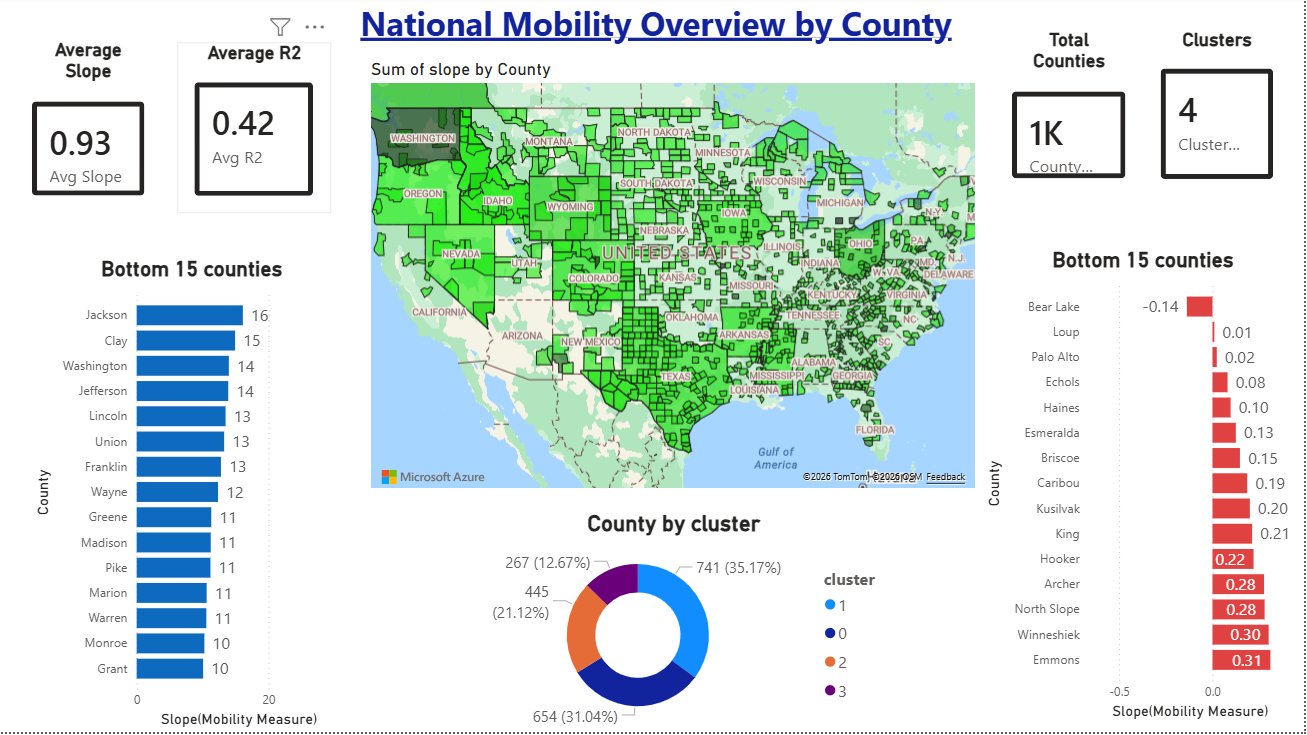

The page's visual inventory and layout, read from the dashboard file:
{"tool":"powerbi","page":{"name":"National mobility by county","canvas":[1280,720],"ordinal":0},"visuals":[{"type":"textbox","box":[314.2,0,662.8,61.7],"z":0},{"type":"donutChart","title":"County by cluster","fields":{"Category":["county_slopes_clusters.cluster"],"Y":["CountNonNull(county_slopes_clusters.County)"]},"box":[441.9,503.6,443.2,216.8],"z":1000},{"type":"cardVisual","title":"Average Slope","fields":{"Data":["county_slopes (1).Avg Slope"]},"box":[17.8,41.2,144.1,171.5],"z":2000},{"type":"cardVisual","title":"Average R2","fields":{"Data":["county_slopes (1).Avg R2"]},"box":[177,45.3,150.9,167.4],"z":3000},{"type":"cardVisual","title":"Total Counties","fields":{"Data":["county_slopes (1).County Count"]},"box":[977,31.6,145.5,164.7],"z":4000},{"type":"cardVisual","title":"Clusters","fields":{"Data":["county_slopes_clusters.Cluster Count"]},"box":[1122.5,31.6,144.1,164.7],"z":5000},{"type":"azureMap","fields":{"Category":["county_slopes (1).County"]},"box":[362.3,61.7,601,425.4],"z":6000},{"type":"barChart","title":"Bottom 15 counties","fields":{"Category":["county_slopes (1).County"],"Y":["Sum(county_slopes (1).slope)"]},"box":[963.3,245.6,317,466.6],"z":7000},{"type":"barChart","title":"Bottom 15 counties","fields":{"Category":["county_slopes (1).County"],"Y":["Sum(county_slopes (1).slope)"]},"box":[32.9,253.9,317,466.6],"z":8000}]}

Visuals, with their boxes in screenshot pixels (x1, y1, x2, y2), scaled from the page's 1280x720 canvas onto the 1307x735 screenshot:
textbox: bbox(321, 0, 998, 63)
"County by cluster" donutChart: bbox(451, 514, 904, 734)
"Average Slope" cardVisual: bbox(18, 42, 165, 217)
"Average R2" cardVisual: bbox(181, 46, 335, 217)
"Total Counties" cardVisual: bbox(998, 32, 1146, 200)
"Clusters" cardVisual: bbox(1146, 32, 1293, 200)
azureMap - county_slopes (1).County: bbox(370, 63, 984, 497)
"Bottom 15 counties" barChart: bbox(984, 251, 1306, 727)
"Bottom 15 counties" barChart: bbox(34, 259, 357, 734)
